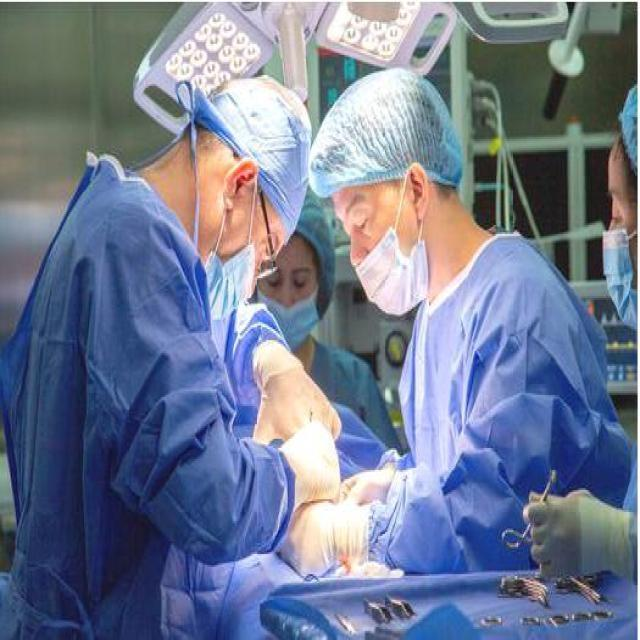hairnet: (316, 58, 461, 322), (256, 207, 329, 346)
